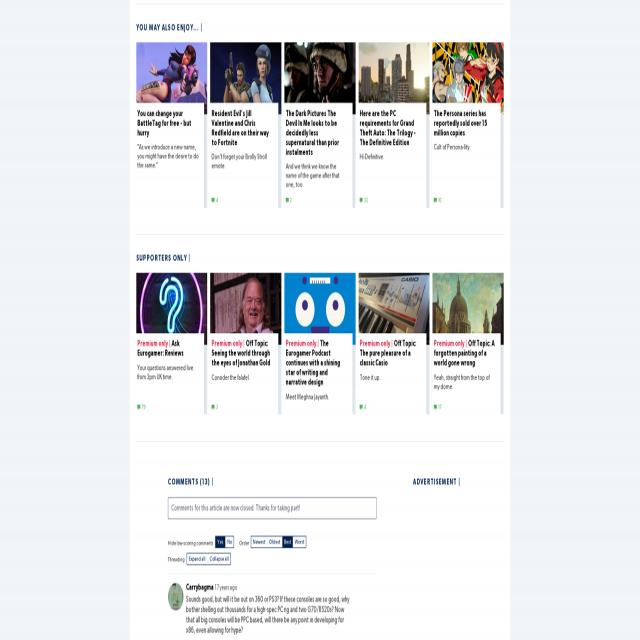button: (136, 272, 208, 344), (210, 272, 282, 344), (284, 272, 356, 344), (358, 272, 430, 344), (432, 272, 504, 344), (136, 42, 208, 114), (210, 42, 282, 114), (284, 42, 356, 114), (358, 42, 430, 114), (432, 42, 504, 114), (168, 583, 184, 611), (207, 553, 231, 564), (186, 553, 208, 564), (251, 537, 267, 548), (268, 537, 282, 548), (293, 537, 306, 548), (282, 537, 294, 548), (215, 537, 225, 548), (226, 537, 234, 548)
field: (168, 497, 376, 519)
